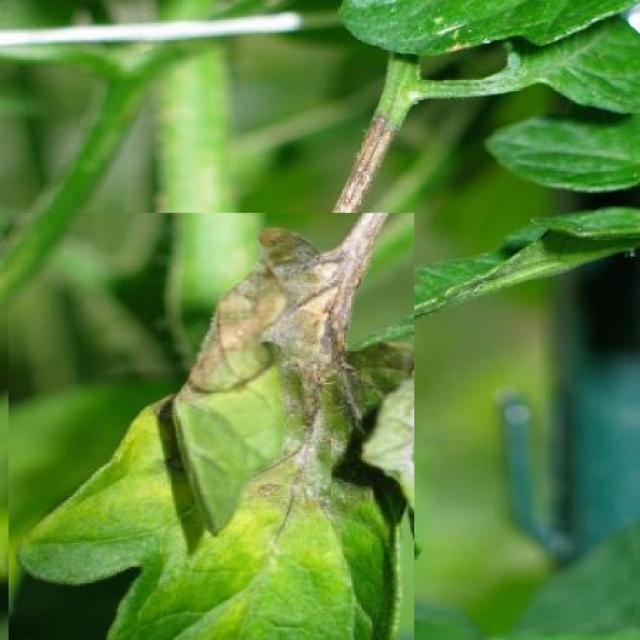Late Blight: (9, 213, 414, 640)
